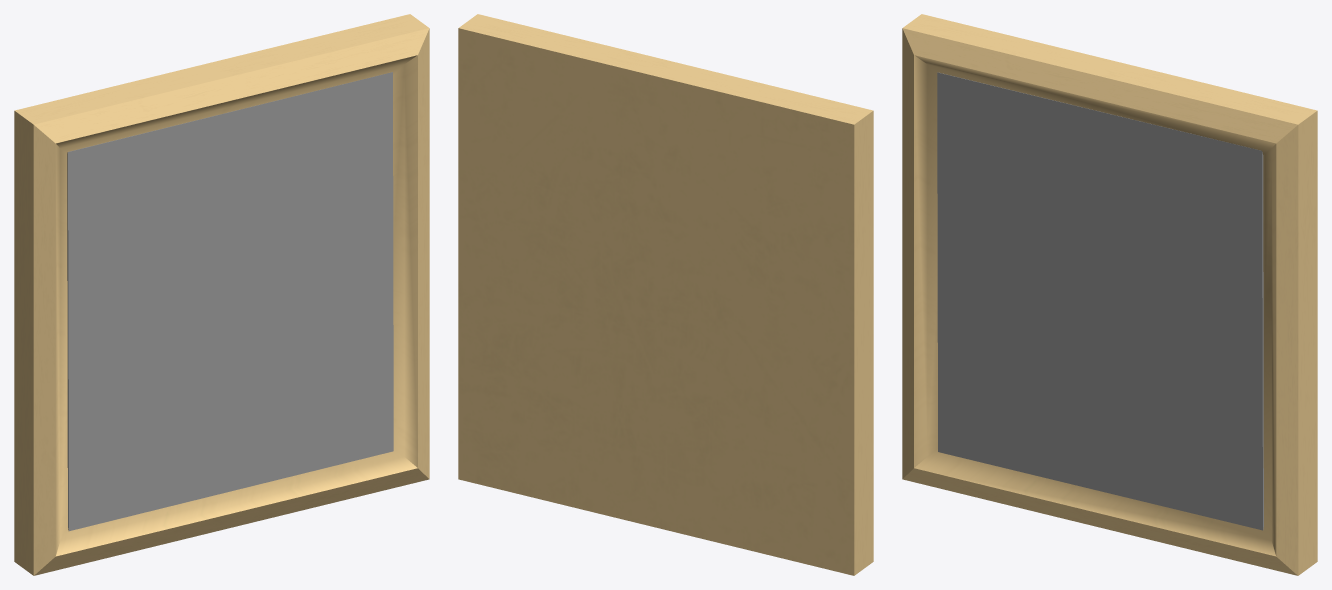
The model's file is Painting Frame.fbx.
3 views of the same model, side by side, from view 1: azimuth 30°, elevation 25°; view 2: azimuth 150°, elevation 25°; view 3: azimuth 330°, elevation 25° (orthographic).
Visible parts, largest first — view 1: pCube1, pCube2; view 2: pCube2; view 3: pCube1, pCube2.
Part boxes in pixels (left/top/right/bottom): pCube1: left=67, top=72, right=393, bottom=531; pCube2: left=14, top=14, right=429, bottom=575; pCube2: left=458, top=14, right=873, bottom=575; pCube1: left=937, top=72, right=1263, bottom=530; pCube2: left=902, top=14, right=1317, bottom=575.
Size of the model in its own units: 6.96 by 7.59 by 0.7465.
Materials: 2 (1 with a texture image).
